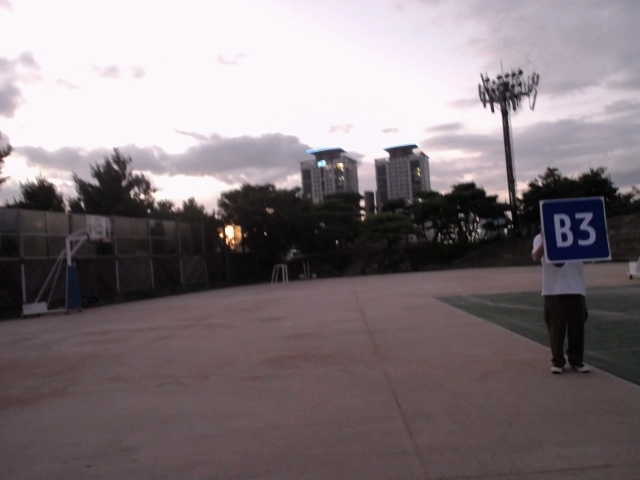delivery_b3: (540, 198, 611, 264)
